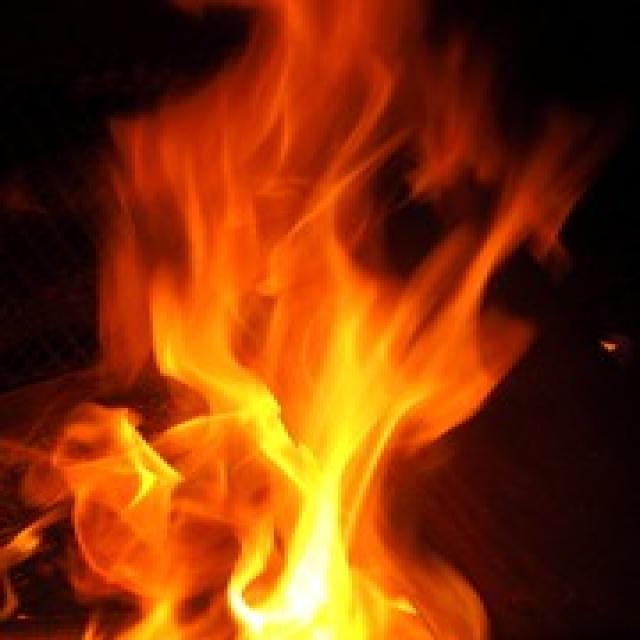Fire: (96, 58, 522, 640)
